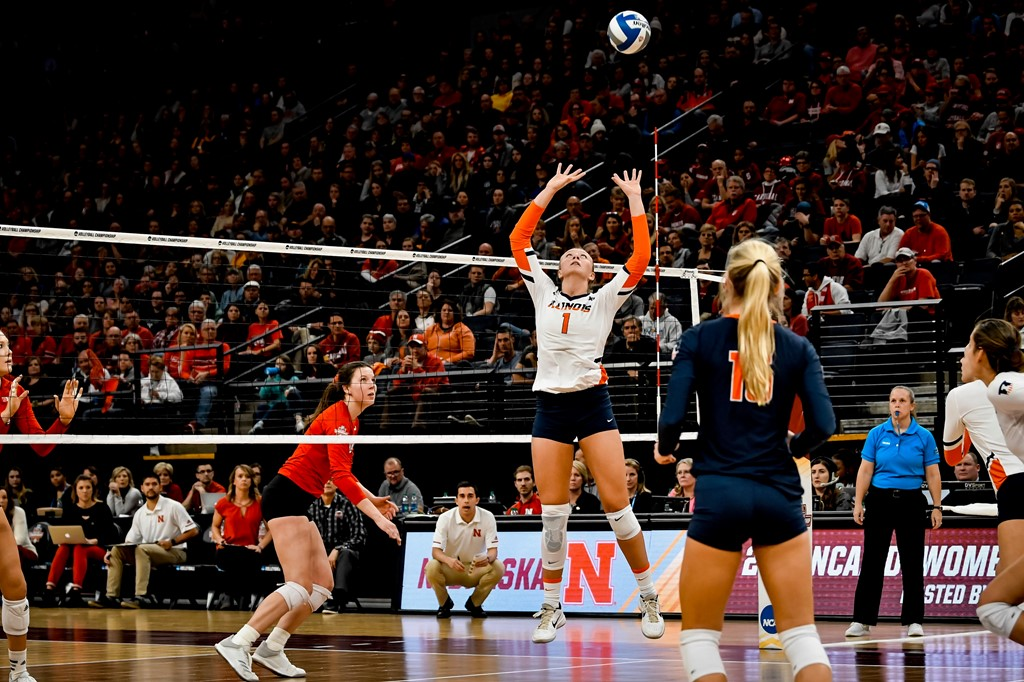ball: (607, 10, 651, 54)
